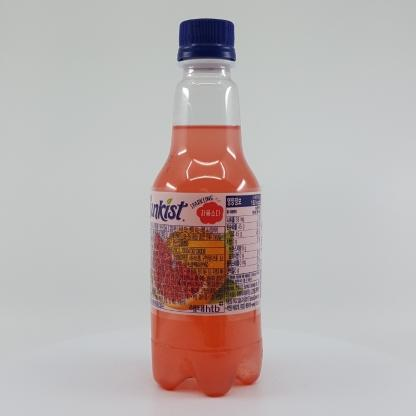----------350ML-PET-: (150, 18, 264, 396)
